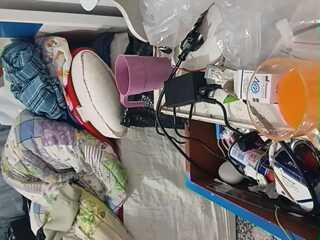cup: (247, 58, 319, 139), (252, 58, 305, 131), (115, 55, 171, 107), (115, 57, 129, 94)
